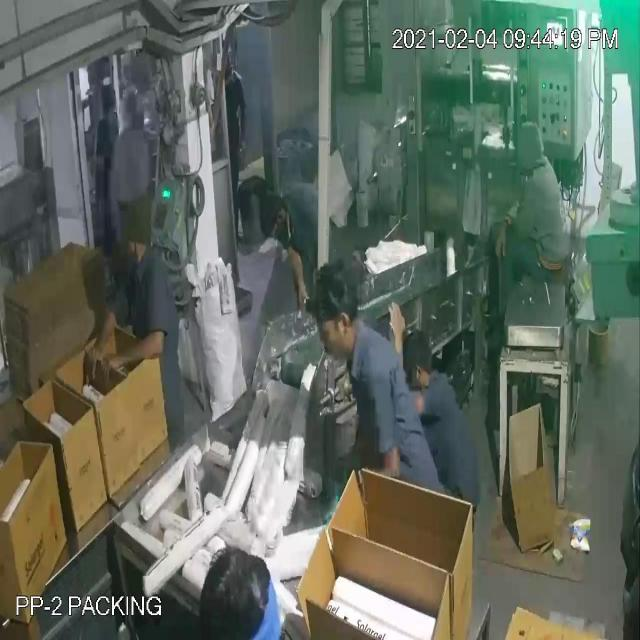No_Gloves: (28, 50, 503, 354)
